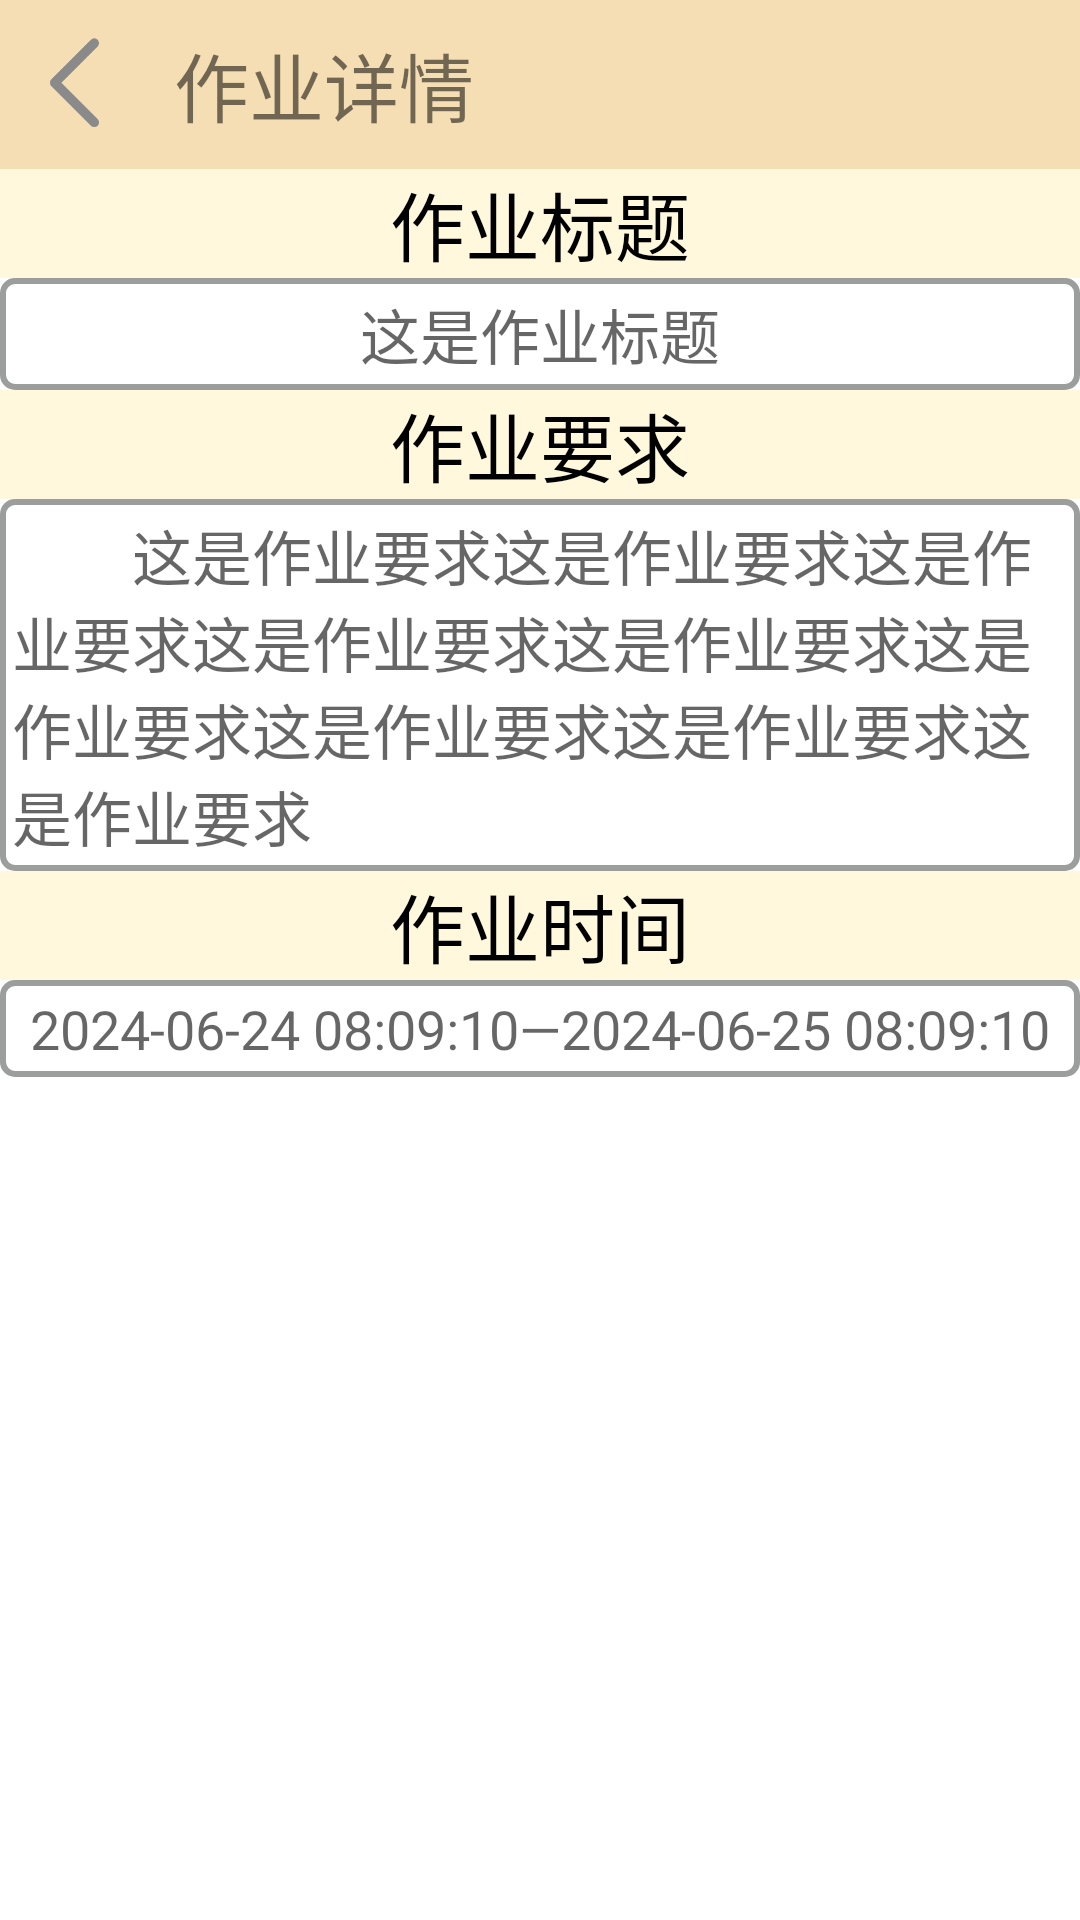

Icons on this 1080 × 1920 Android screen, each with the point to tap as [x,y]:
back: [74,82]
